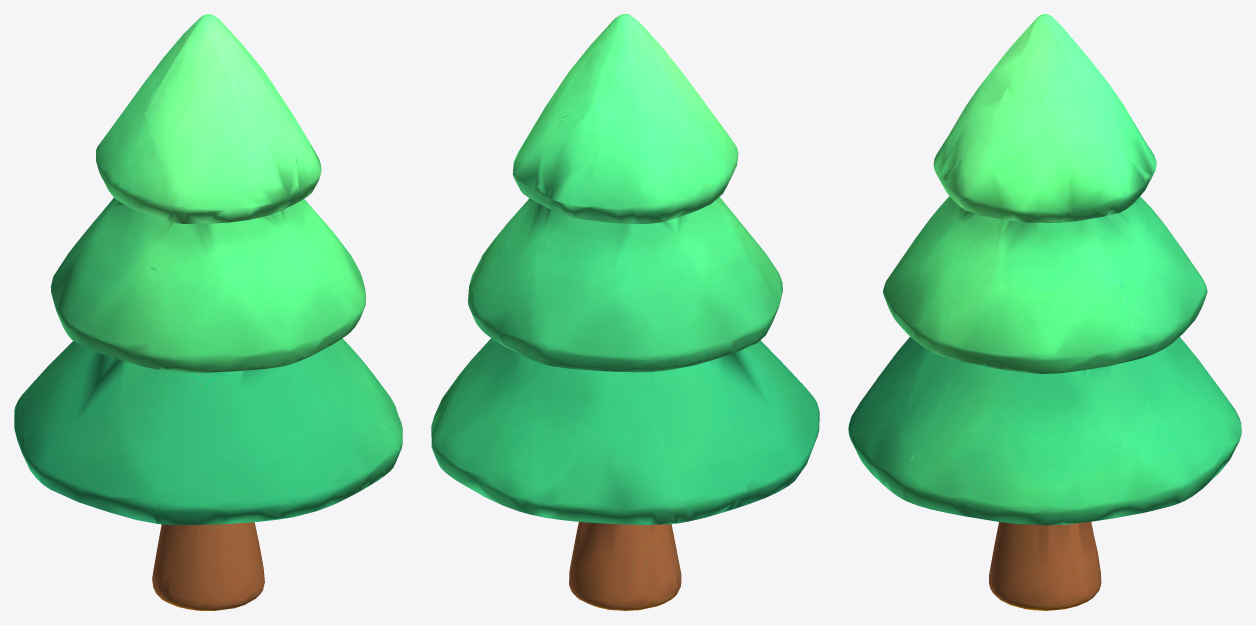
File: sapin.glb
3 views of the same model, side by side, from view 1: azimuth 30°, elevation 25°; view 2: azimuth 150°, elevation 25°; view 3: azimuth 270°, elevation 25° (orthographic).
Visible parts, largest first — view 1: mesh_node; view 2: mesh_node; view 3: mesh_node.
Boxes of the visible parts, x1,y1,x2,y2 form: mesh_node: [14, 14, 402, 610]; mesh_node: [431, 14, 819, 610]; mesh_node: [848, 14, 1241, 610].
Bounding box in the file's own units: 1.17 × 1.9 × 1.17.
1 material, 1 textured.
